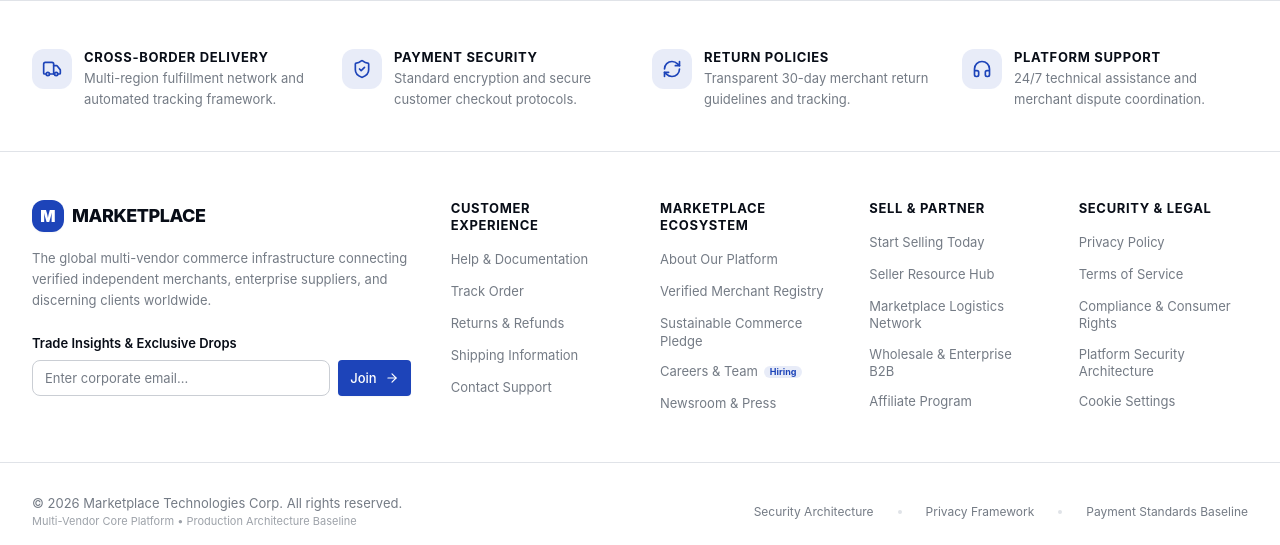
Test case: Phase 1E: Responsive Application Shell & Navigation Engine › SiteFooter Component › handles newsletter form interaction
Type "buyer@enterprise.com" into the field named "corporate email address" at (181, 378), box left=32, top=360, right=330, bottom=396
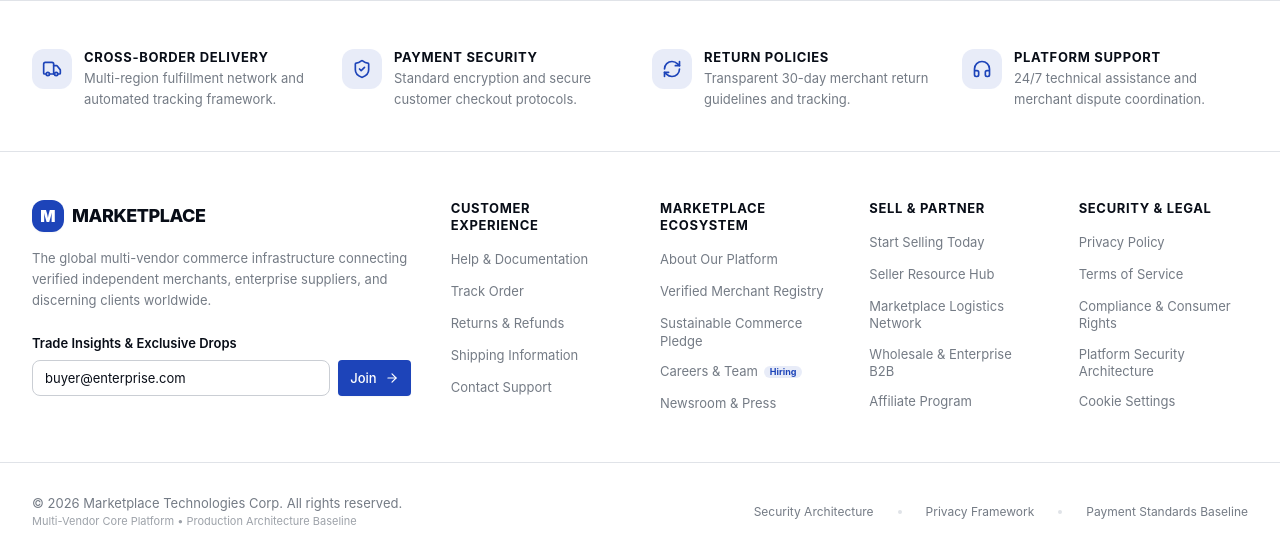
Click the button "Join" at (374, 378), box left=338, top=360, right=411, bottom=396
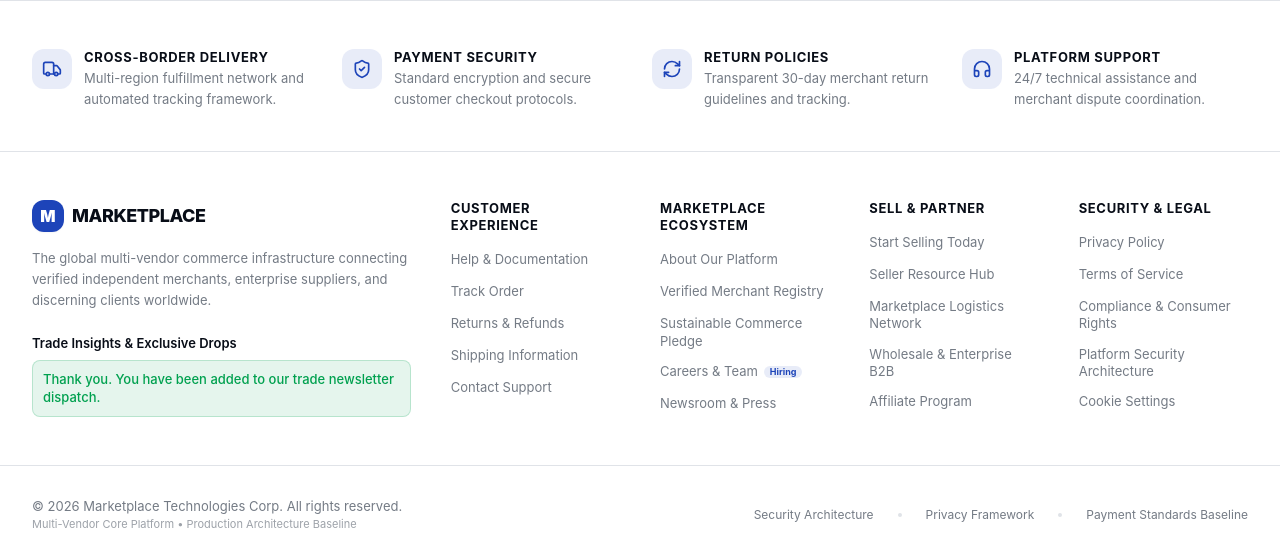
Expected: the text "Thank you. You have been added" is shown, left=43, top=371, right=394, bottom=405
